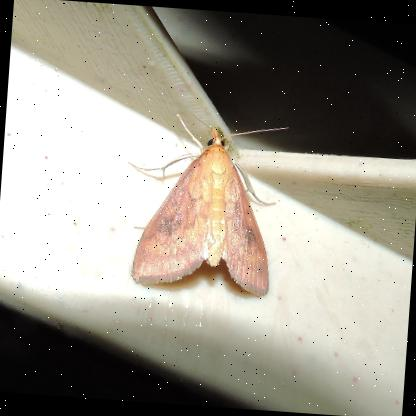Asian Corn Borer Moth: (116, 105, 293, 302)
